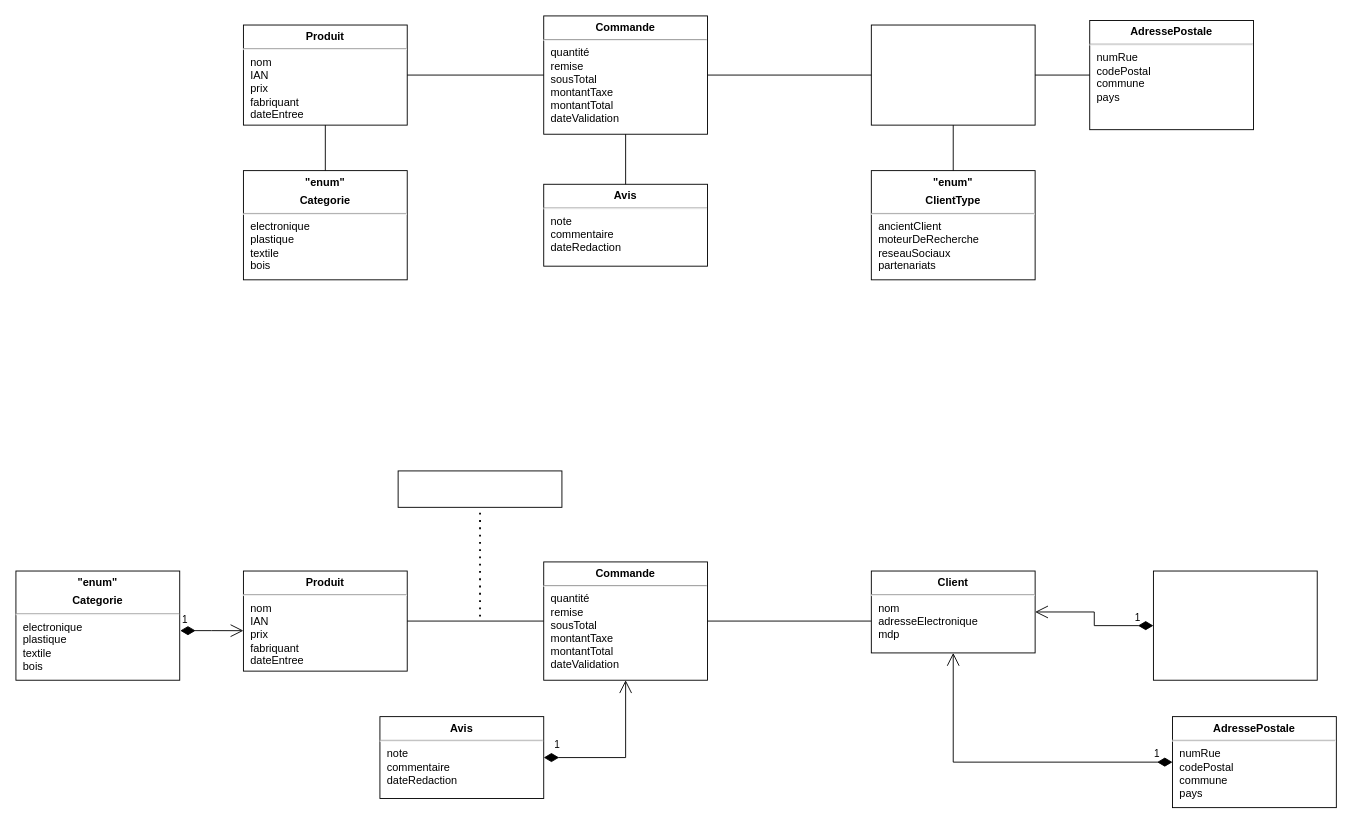
This 1352x824 diagram has some shape labels left out. Each missing label, with the box of its shape:
"enum" ClientType ancientClient moteurDeRecherche reseauxSociaux partenariats: (1153, 570, 1317, 680)
Client nom adressElectronique mdp adressePostale: (870, 24, 1035, 125)
Commande_Produit: (397, 470, 562, 507)
